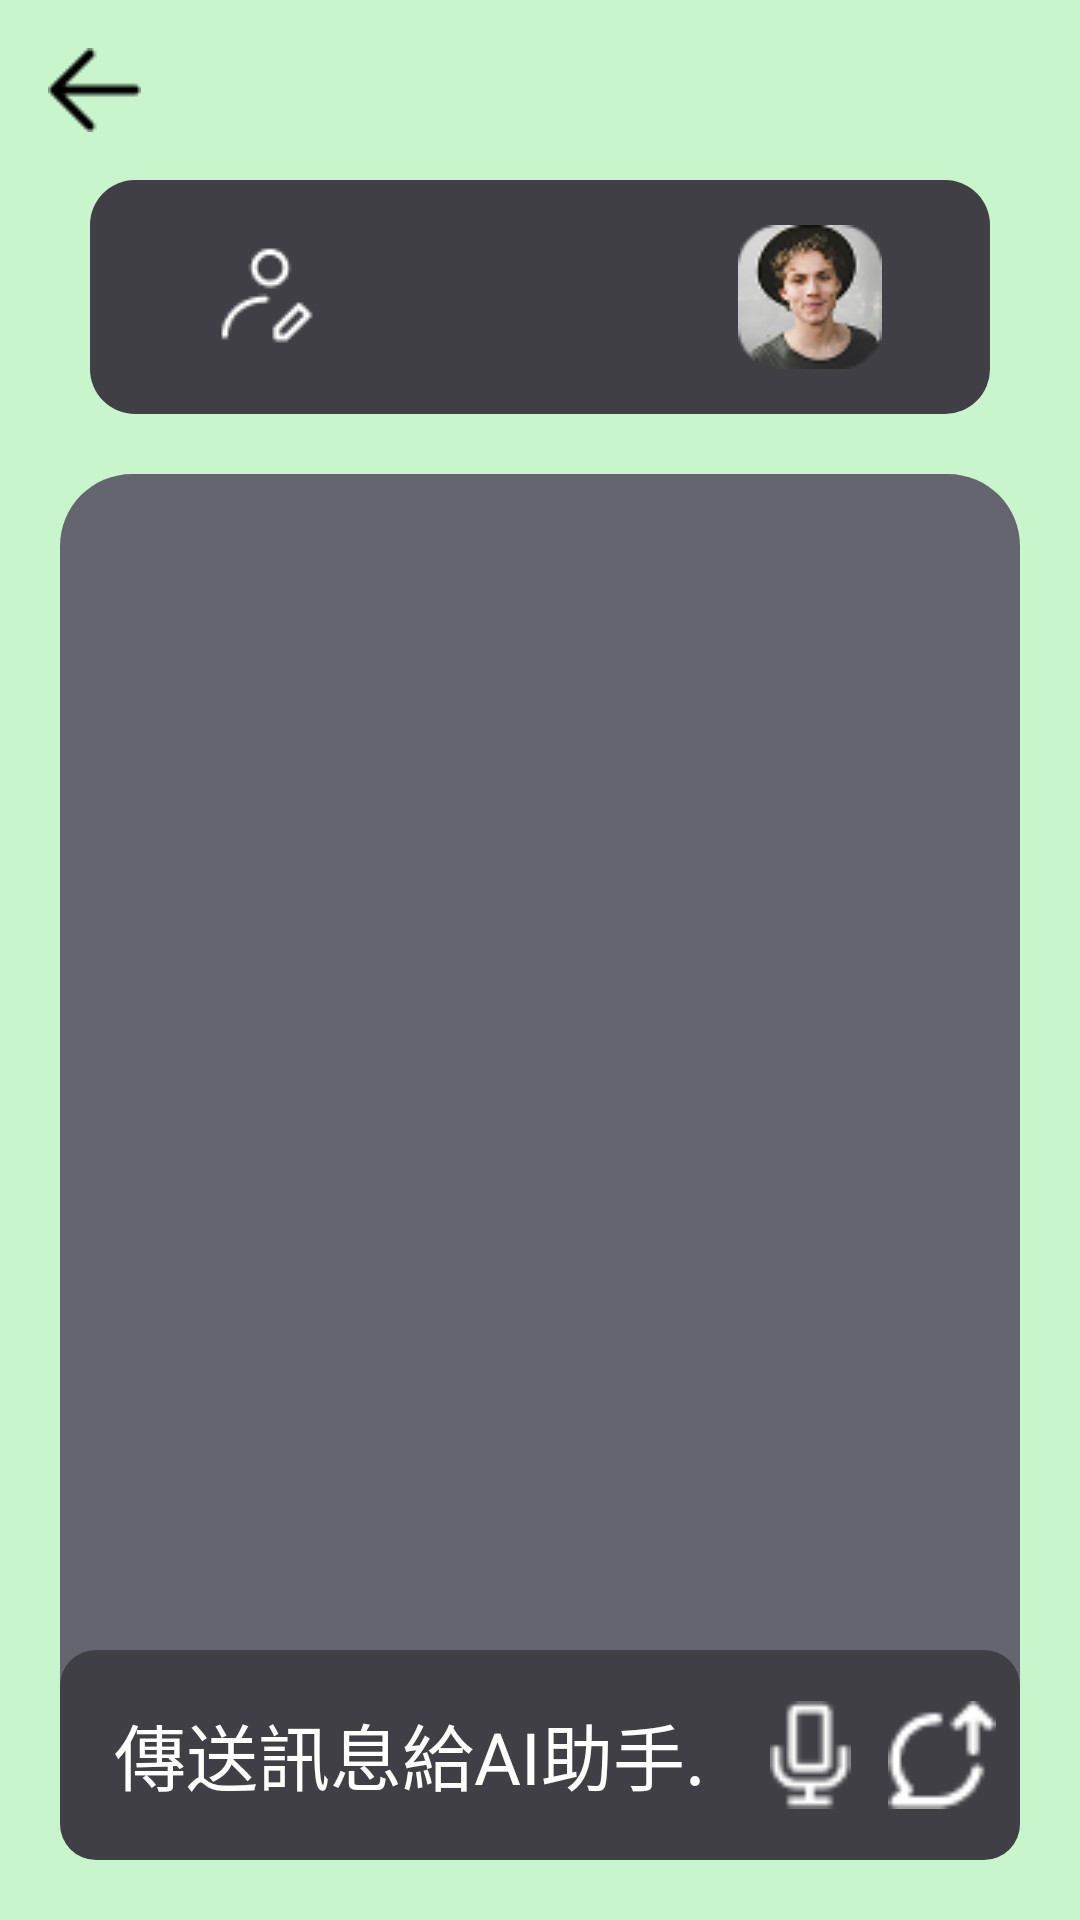

Where icons sit on this 1080 × 1920 app screen, as (x1, y1, x2, y2):
back: (48, 48, 141, 132)
mic: (770, 1701, 851, 1809)
send: (888, 1701, 996, 1809)
user photo: (738, 225, 882, 369)
